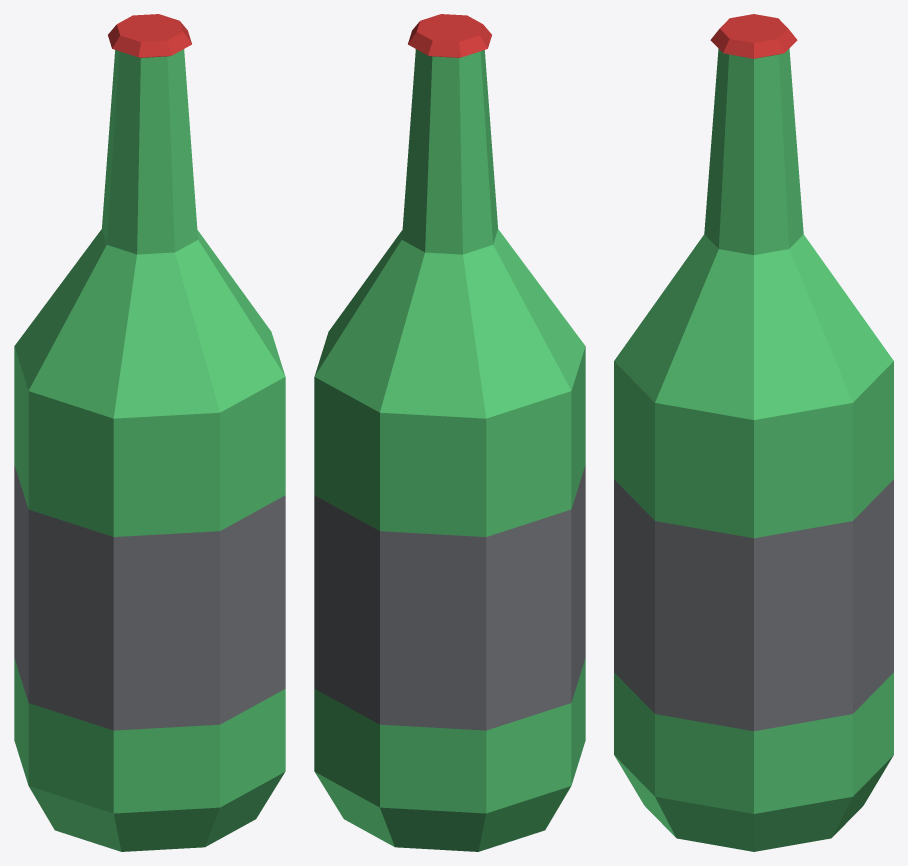
File: Bottle.fbx
The picture shows the model from 3 angles, left to right: view 1: azimuth 30°, elevation 25°; view 2: azimuth 150°, elevation 25°; view 3: azimuth 270°, elevation 25°; orthographic projection.
Visible parts, largest first — view 1: Cylinder; view 2: Cylinder; view 3: Cylinder.
Boxes of the visible parts, <box> form: Cylinder: <box>14,14,285,851</box>; Cylinder: <box>314,14,585,851</box>; Cylinder: <box>614,14,893,851</box>.
Size of the model in its own units: 40 by 123 by 40.
